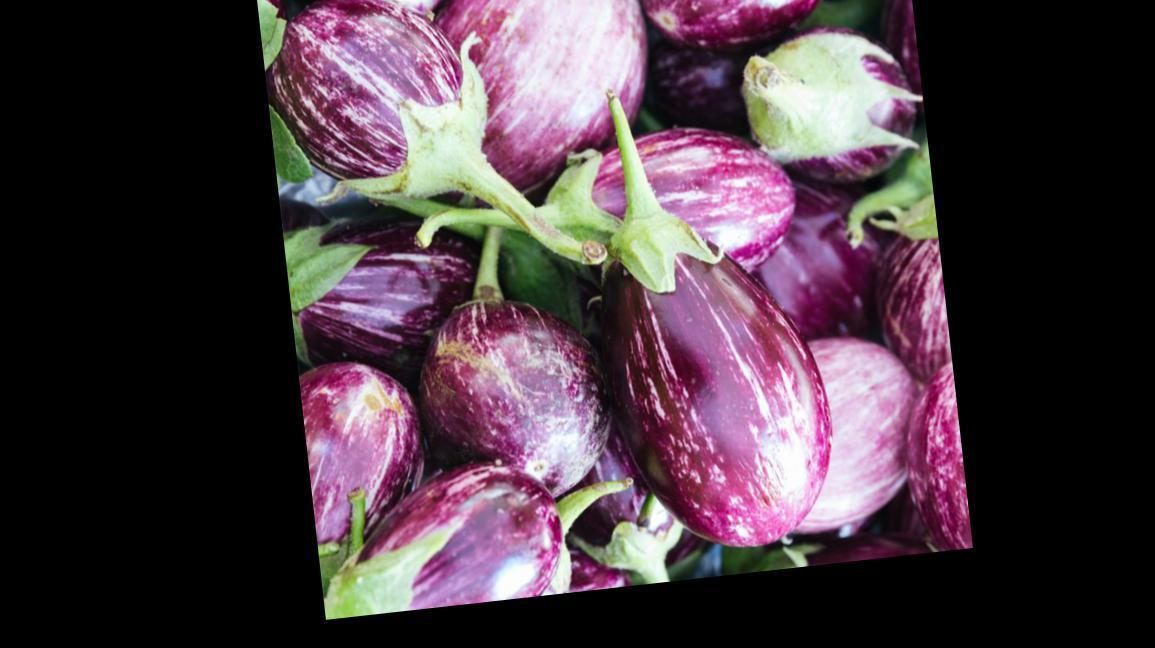eggplant: (257, 0, 952, 625), (544, 123, 818, 582), (254, 0, 647, 156), (305, 451, 548, 624)
